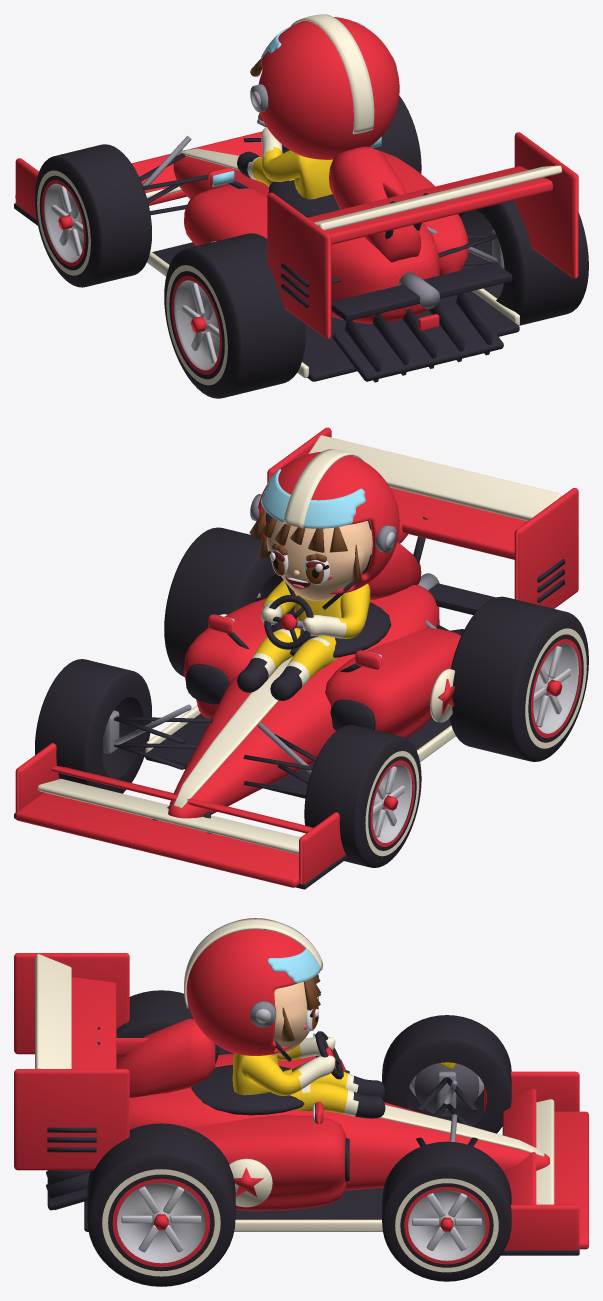
Rendered from kart.glb.
3 renders of one model, top to bottom at view 1: azimuth 30°, elevation 25°; view 2: azimuth 150°, elevation 25°; view 3: azimuth 270°, elevation 25°, orthographic. The views are drawn at different scales.
Visible parts, largest first — view 1: Body, WheelRL_mesh, HeadMesh, WheelFL_mesh, WheelRR_mesh, PilotMesh, WheelFR_mesh; view 2: Body, WheelRL_mesh, HeadMesh, WheelFL_mesh, WheelFR_mesh, WheelRR_mesh, PilotMesh; view 3: Body, WheelRR_mesh, HeadMesh, WheelFR_mesh, WheelFL_mesh, PilotMesh, WheelRL_mesh.
Part boxes in pixels (left/top/right/bottom): Body: left=14, top=119, right=578, bottom=382; WheelRL_mesh: left=164, top=233, right=305, bottom=398; HeadMesh: left=250, top=14, right=399, bottom=159; WheelFL_mesh: left=35, top=144, right=151, bottom=287; WheelRR_mesh: left=458, top=200, right=588, bottom=325; PilotMesh: left=237, top=127, right=332, bottom=199; WheelFR_mesh: left=373, top=96, right=421, bottom=173; Body: left=14, top=427, right=578, bottom=889; WheelRL_mesh: left=449, top=596, right=588, bottom=761; HeadMesh: left=249, top=449, right=399, bottom=609; WheelFL_mesh: left=304, top=724, right=421, bottom=867; WheelFR_mesh: left=35, top=659, right=151, bottom=793; WheelRR_mesh: left=164, top=527, right=283, bottom=676; PilotMesh: left=237, top=580, right=370, bottom=700; Body: left=14, top=953, right=588, bottom=1255; WheelRR_mesh: left=87, top=1123, right=235, bottom=1286; HeadMesh: left=184, top=918, right=322, bottom=1061; WheelFR_mesh: left=382, top=1141, right=511, bottom=1281; WheelFL_mesh: left=382, top=1015, right=511, bottom=1133; PilotMesh: left=232, top=1031, right=385, bottom=1118; WheelRL_mesh: left=116, top=990, right=233, bottom=1058.
Bounding box in the file's own units: 2.62 × 2.03 × 3.73.
